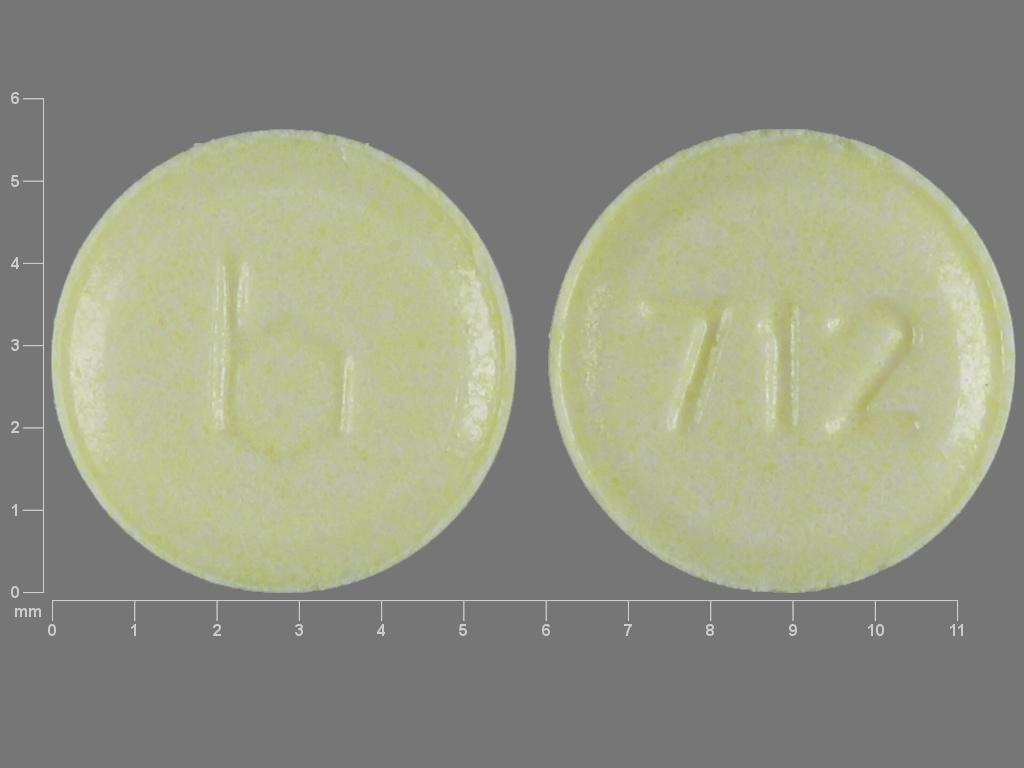Pill: (536, 103, 1018, 599), (47, 106, 528, 598)
